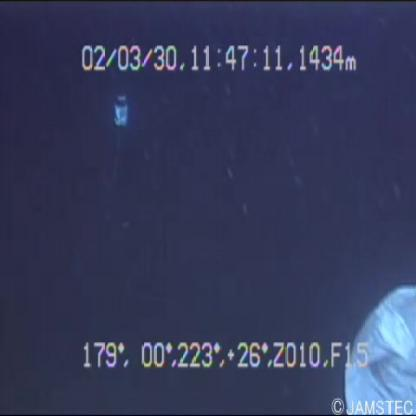Rác: (335, 276, 415, 416)
